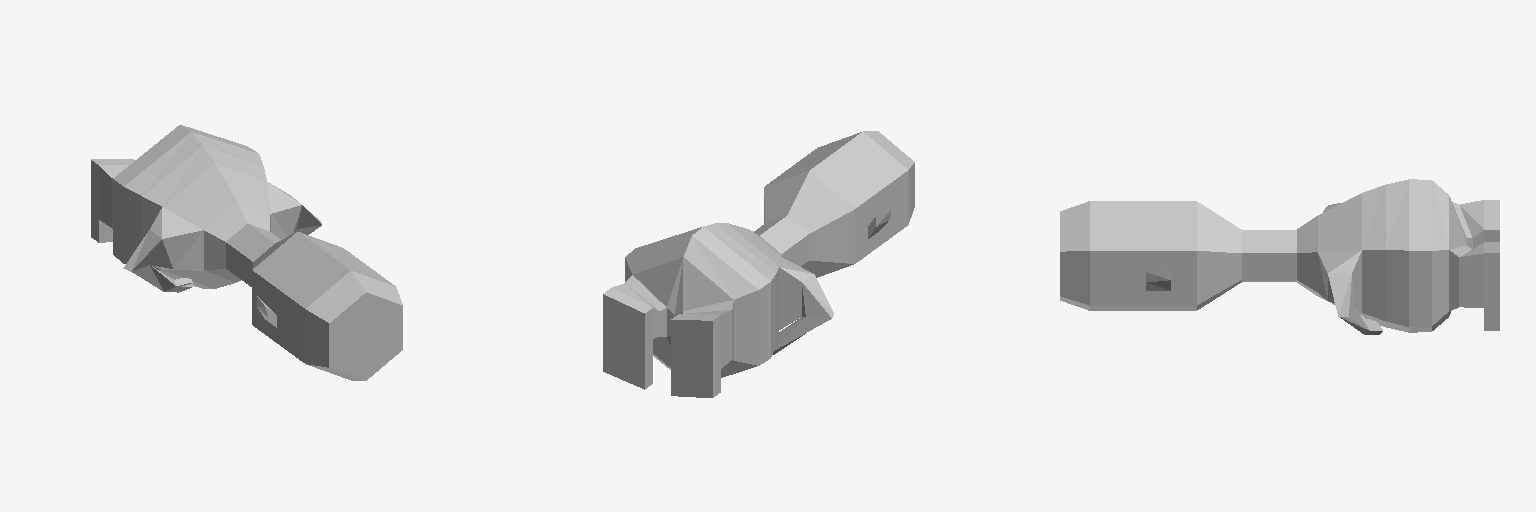
The model's file is ancientIdol_ready.obj.
3 views of the same model, side by side, from view 1: azimuth 30°, elevation 25°; view 2: azimuth 150°, elevation 25°; view 3: azimuth 270°, elevation 25° (orthographic).
Parts seen in each view (by area): view 1: Cylinder; view 2: Cylinder; view 3: Cylinder.
Boxes of the visible parts, box(x1,y1,x2,y2) form: Cylinder: box(91, 125, 402, 380); Cylinder: box(603, 131, 914, 397); Cylinder: box(1060, 179, 1499, 334).
Size of the model in its own units: 8.85 by 6.6 by 17.17.